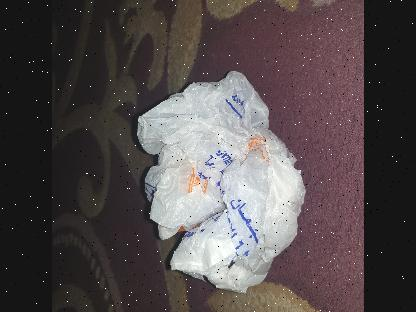Others: (130, 63, 312, 297)
